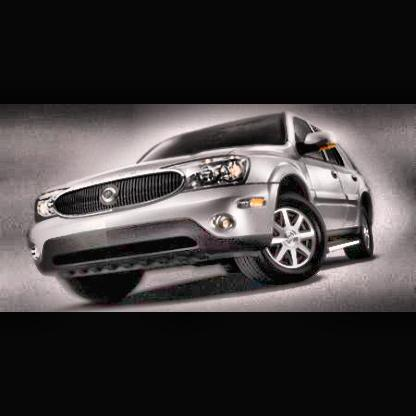Buick Rainier SUV 2007: (27, 111, 376, 299)
